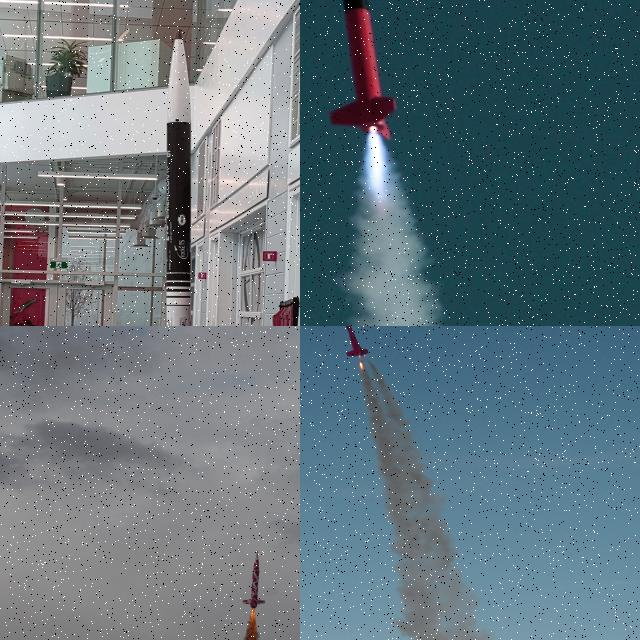Rocket: (328, 0, 396, 142), (166, 28, 191, 326), (242, 550, 266, 609), (329, 326, 368, 357)
